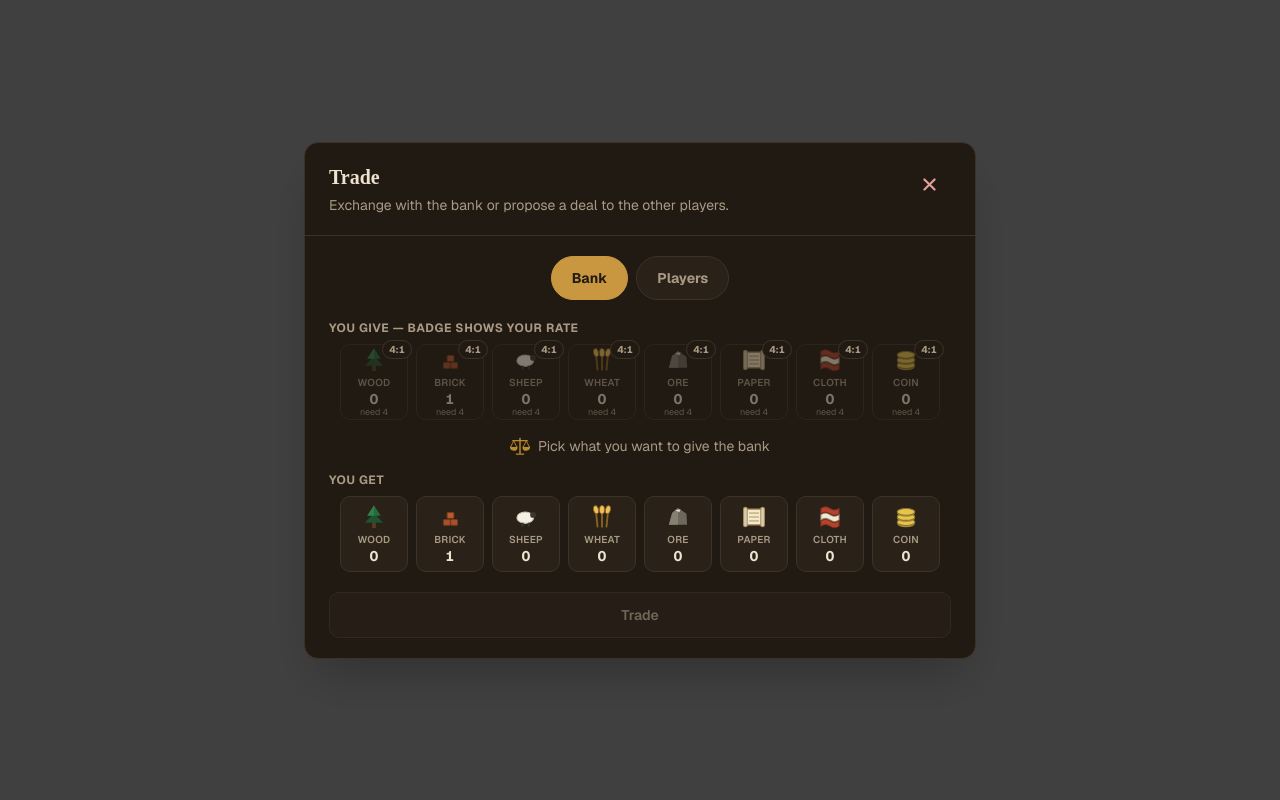
TradeModal — players › cannot stage more of an item than the player holds
The image size is (1280, 800).
What coordinates should you click on to do the following:
click the button "Players"
I would click on:
 (683, 278)
Its box is [636,256,729,300].
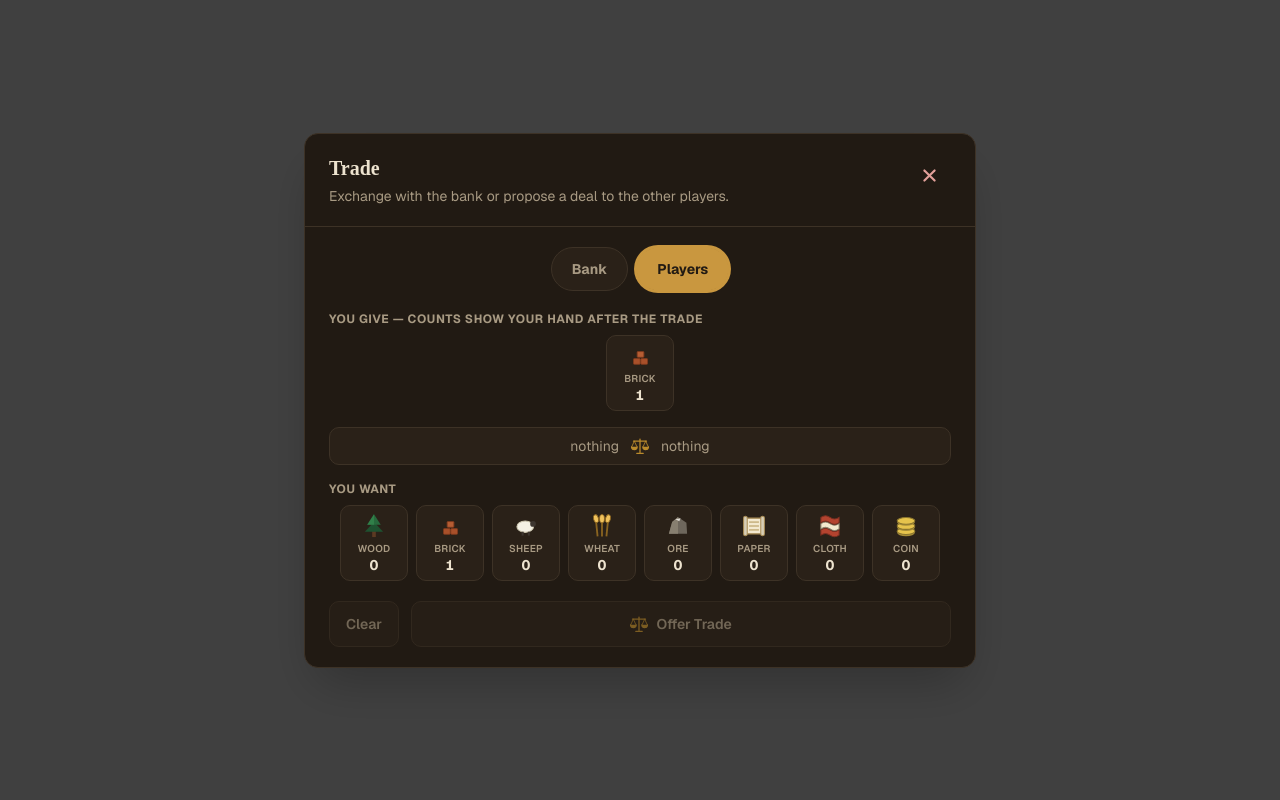
What coordinates should you click on to do the following:
click the button with aria-label "Offer one more Brick"
I would click on:
 (640, 372)
Its box is [606,334,674,410].
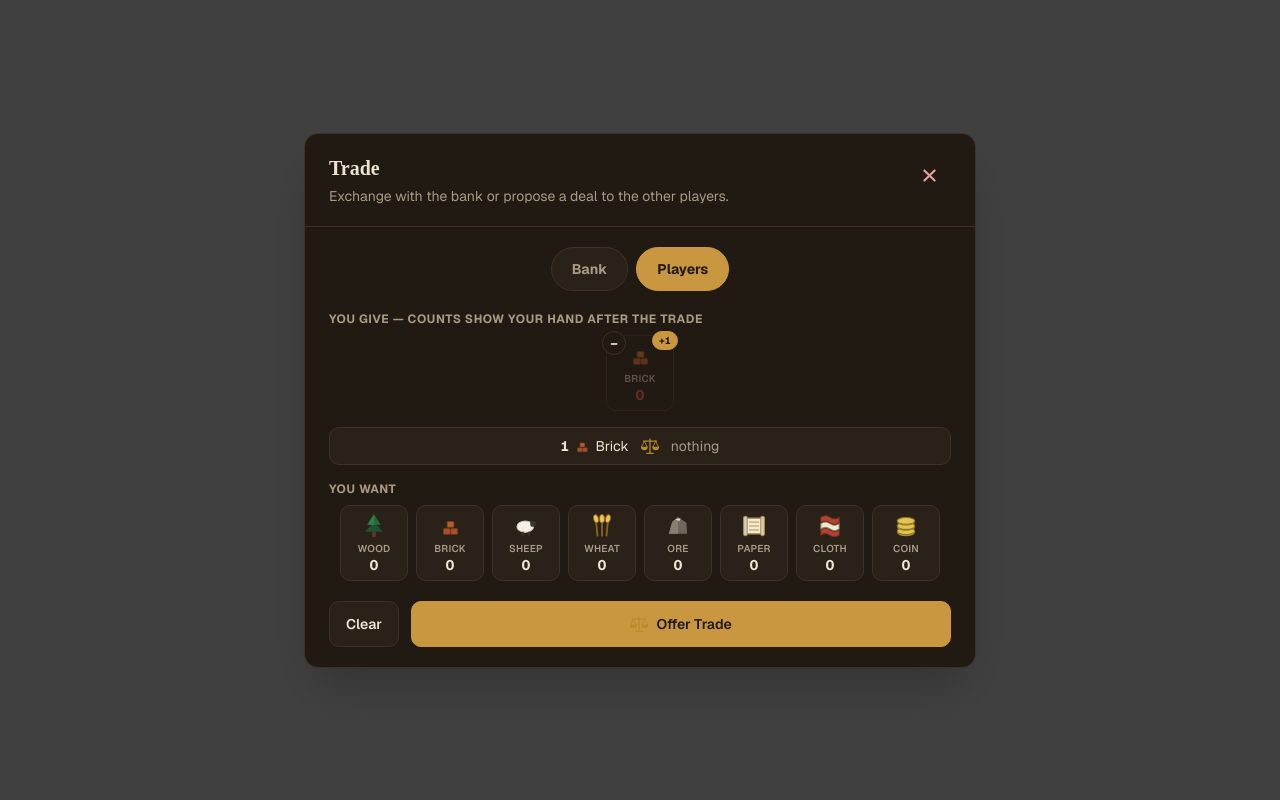
Result: the button with aria-label "Offer one more Brick" is disabled at [606,334,674,410]
